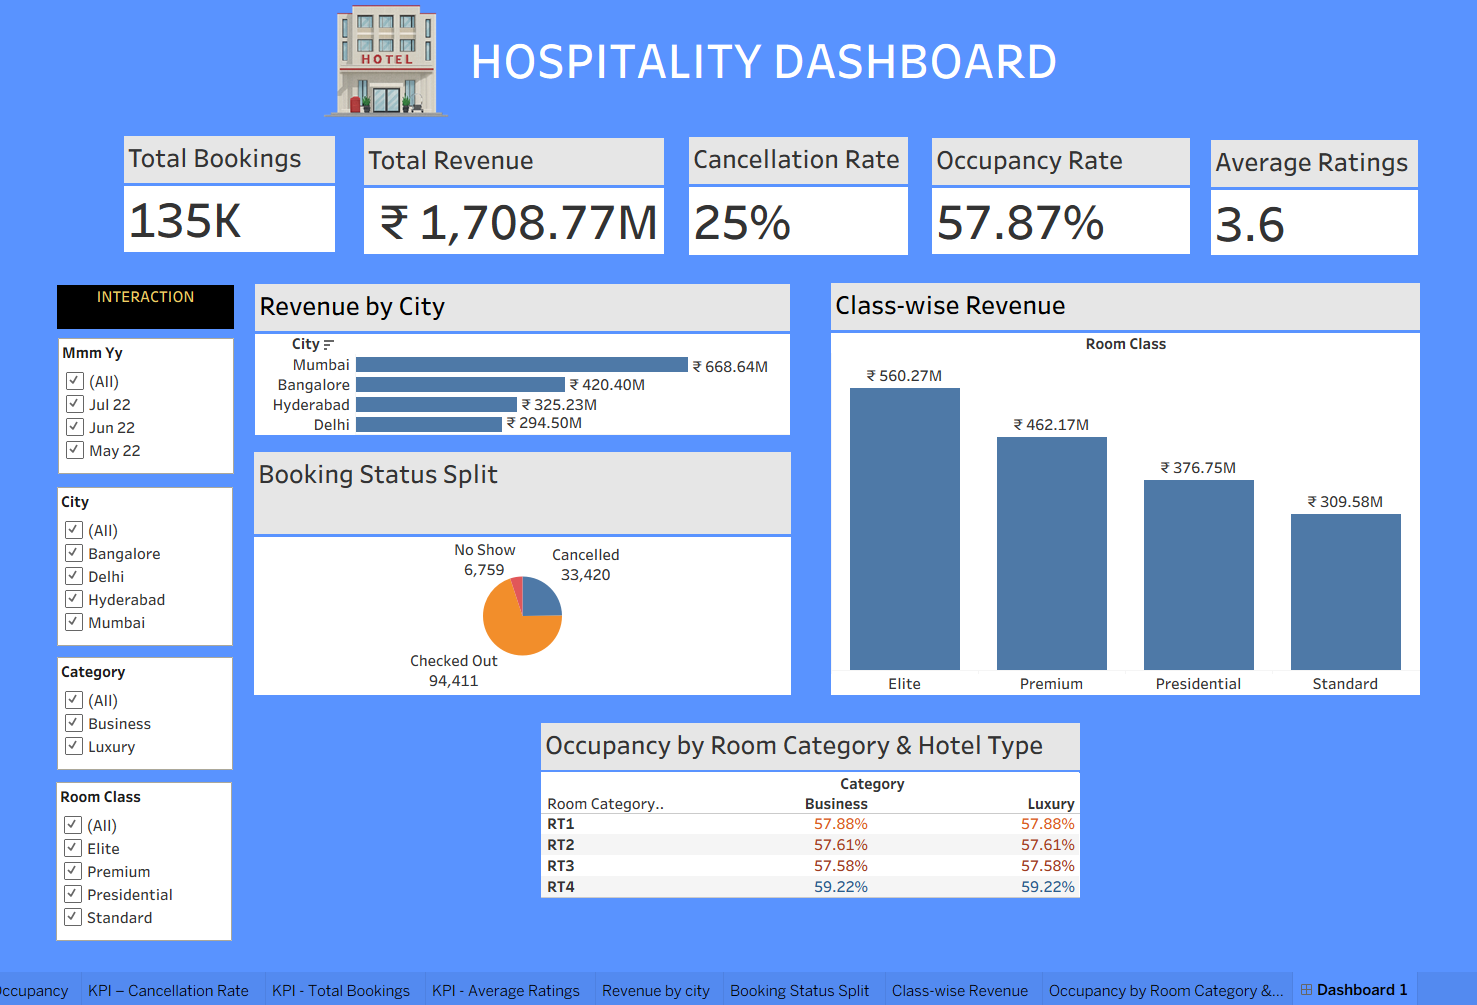

The dashboard page shown, as its layout file describes it:
{"tool":"tableau","page":{"name":"Dashboard 1","canvas":[1400,960],"ordinal":0},"visuals":[{"type":"image","param":"Image/Picture1.png","box":[271,5,143,126]},{"type":"text","box":[417,17,597,95]},{"type":"worksheet","title":"KPI - Total Bookings","mark":"Automatic","box":[75,141,211,123]},{"type":"worksheet","title":"KPI – Cancellation Rate","mark":"Automatic","box":[640,142,219,118]},{"type":"worksheet","title":"KPI - Total Revenue","mark":"Automatic","box":[315,143,300,131]},{"type":"worksheet","title":"KPI – Occupancy","mark":"Automatic","box":[883,143,258,116]},{"type":"worksheet","title":"KPI - Average Ratings","mark":"Automatic","box":[1162,145,207,115]},{"type":"worksheet","title":"Class-wise Revenue","mark":"Bar","rows":["revenue_realized"],"cols":["room_class"],"box":[782,288,589,412]},{"type":"worksheet","title":"Revenue by city","mark":"Bar","rows":["city"],"cols":["revenue_realized"],"box":[206,289,535,154]},{"type":"text","box":[8,290,177,44]},{"type":"filter","title":"Revenue by city","param":"[federated.07qy33403wr2471du3axy1xy9jjj].[none:mmm yy:nk]","box":[9,343,176,136]},{"type":"worksheet","title":"Booking Status Split","mark":"Pie","box":[205,457,537,243]},{"type":"filter","title":"Revenue by city","param":"[federated.07qy33403wr2471du3axy1xy9jjj].[none:city:nk]","box":[8,492,176,159]},{"type":"filter","title":"Revenue by city","param":"[federated.07qy33403wr2471du3axy1xy9jjj].[none:category:nk]","box":[8,662,176,113]},{"type":"worksheet","title":"Occupancy by Room Category & Hotel Type","mark":"Automatic","rows":["room_category (fact_aggregated_bookings.csv)"],"cols":["category"],"box":[492,728,539,179]},{"type":"filter","title":"Revenue by city","param":"[federated.07qy33403wr2471du3axy1xy9jjj].[none:room_class:nk]","box":[7,787,176,159]}]}

Visuals, with their boxes in screenshot pixels (x1, y1, x2, y2):
image: l=316, t=0, r=458, b=123
text: l=461, t=9, r=1055, b=104
"KPI - Total Bookings" worksheet: l=121, t=133, r=331, b=255
"KPI – Cancellation Rate" worksheet: l=683, t=134, r=901, b=251
"KPI - Total Revenue" worksheet: l=359, t=135, r=658, b=265
"KPI – Occupancy" worksheet: l=924, t=135, r=1181, b=250
"KPI - Average Ratings" worksheet: l=1202, t=137, r=1408, b=251
"Class-wise Revenue" worksheet (Bar marks): l=824, t=279, r=1410, b=689
"Revenue by city" worksheet (Bar marks): l=251, t=280, r=783, b=433
text: l=54, t=281, r=230, b=325
"Revenue by city" filter: l=55, t=333, r=230, b=469
"Booking Status Split" worksheet (Pie marks): l=250, t=447, r=784, b=689
"Revenue by city" filter: l=54, t=482, r=229, b=640
"Revenue by city" filter: l=54, t=651, r=229, b=763
"Occupancy by Room Category & Hotel Type" worksheet: l=536, t=716, r=1072, b=895
"Revenue by city" filter: l=53, t=775, r=228, b=933
